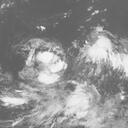cyclone: (20, 38, 69, 86), (81, 31, 121, 70), (66, 82, 101, 119)
